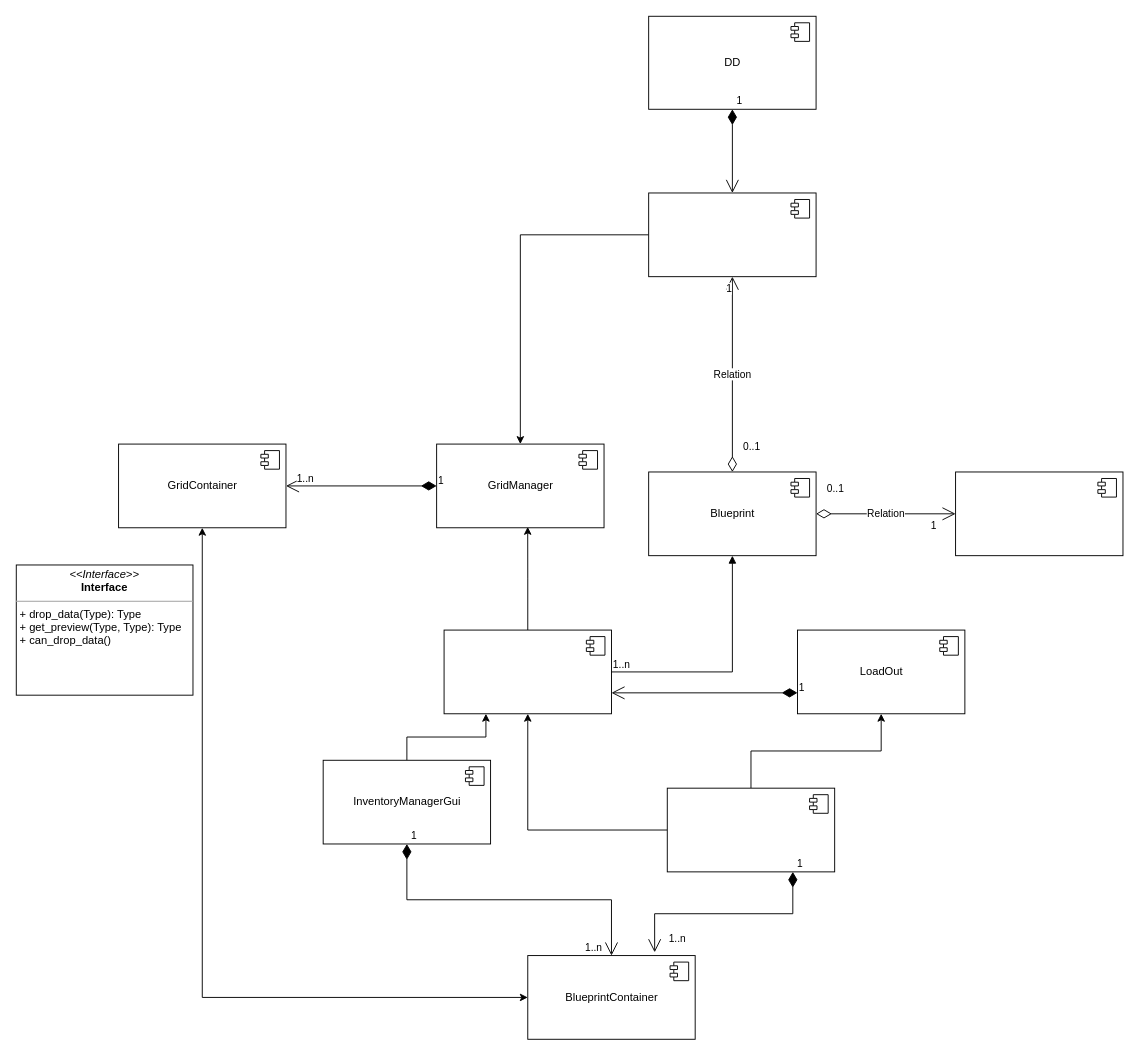
This 1139x1056 diagram has some shape labels left out. Each missing label, with the centre of its shape:
InventoryManager: the point at 527,671
LoadOutGui: the point at 750,829
Pawn: the point at 732,234
Preview: the point at 1039,513
